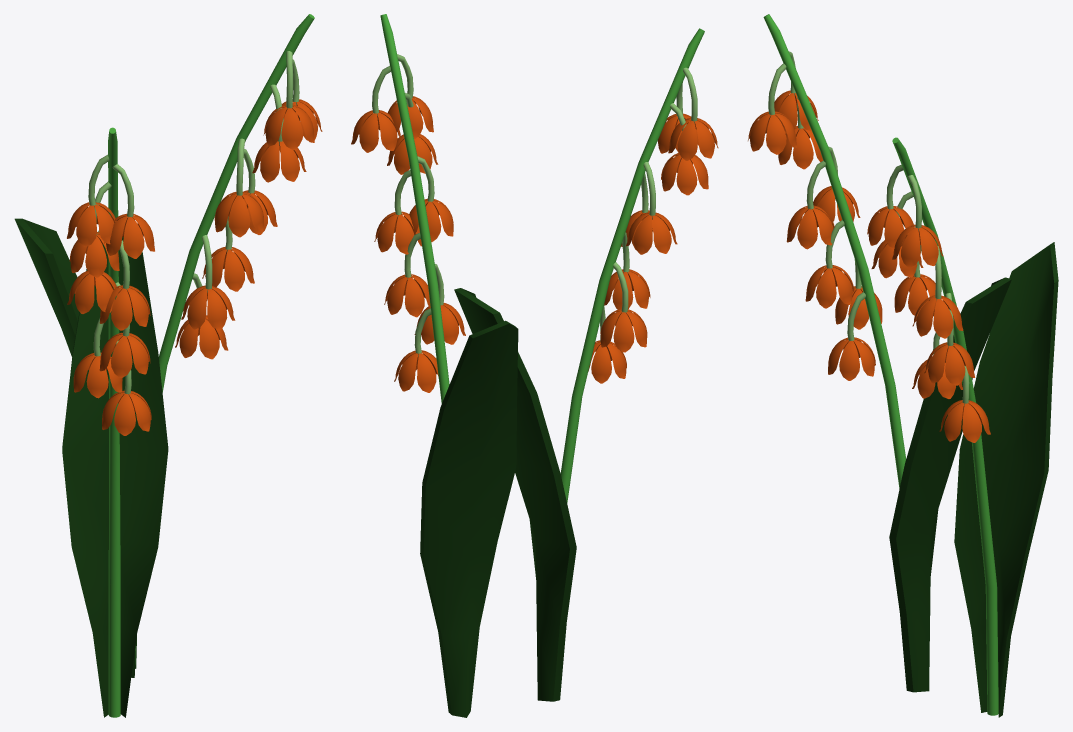
Rendered from lilyofthevalleyv3.fbx.
3 views of the same model, side by side, from view 1: azimuth 30°, elevation 25°; view 2: azimuth 150°, elevation 25°; view 3: azimuth 270°, elevation 25° (orthographic). The views are drawn at different scales.
Parts seen in each view (by area): view 1: lily of the valley; view 2: lily of the valley; view 3: lily of the valley.
Part boxes in pixels (x1=…): lily of the valley: x1=14, y1=14, x2=322, y2=717; lily of the valley: x1=351, y1=14, x2=718, y2=717; lily of the valley: x1=748, y1=14, x2=1058, y2=717.
Bounding box in the file's own units: 0.6455 × 1.31 × 0.5813.
